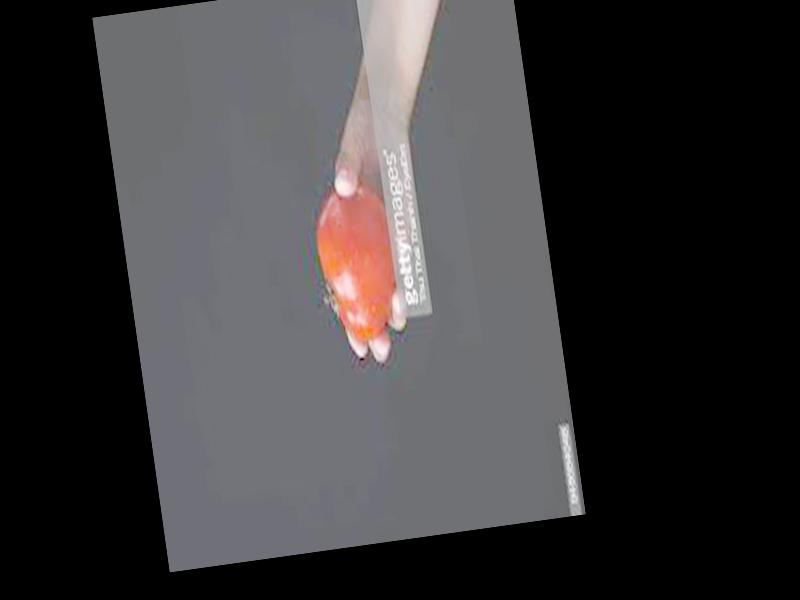Tomato: (310, 186, 407, 351)
